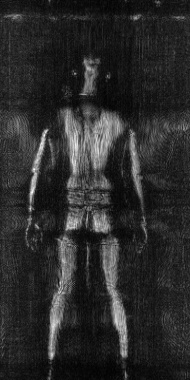gun: (56, 81, 74, 107)
